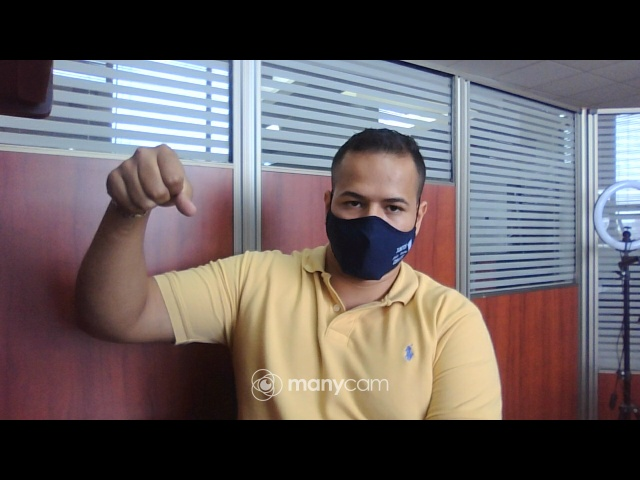Yes: (98, 141, 204, 224)
